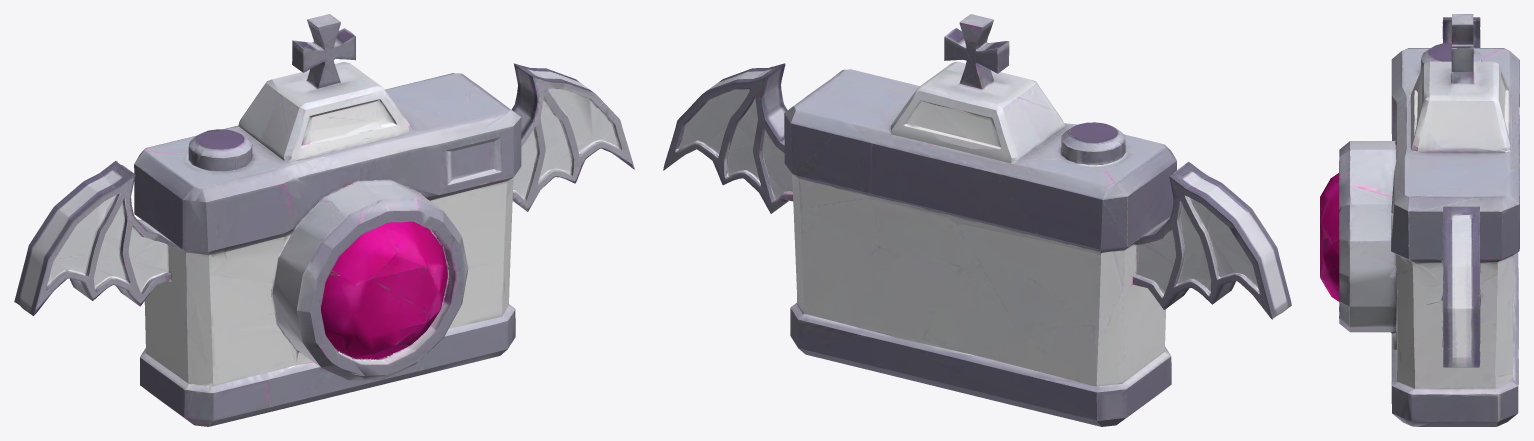
Rendered from i-photos.glb.
3 views of the same model, side by side, from view 1: azimuth 30°, elevation 25°; view 2: azimuth 150°, elevation 25°; view 3: azimuth 270°, elevation 25° (orthographic). The views are drawn at different scales.
Visible parts, largest first — view 1: Mesh_0; view 2: Mesh_0; view 3: Mesh_0.
Part boxes in pixels (x1=…): Mesh_0: x1=14, y1=14, x2=634, y2=426; Mesh_0: x1=663, y1=14, x2=1291, y2=426; Mesh_0: x1=1320, y1=14, x2=1519, y2=426.
Bounding box in the file's own units: 1.9 × 1.05 × 0.5681.
1 material, 1 textured.
